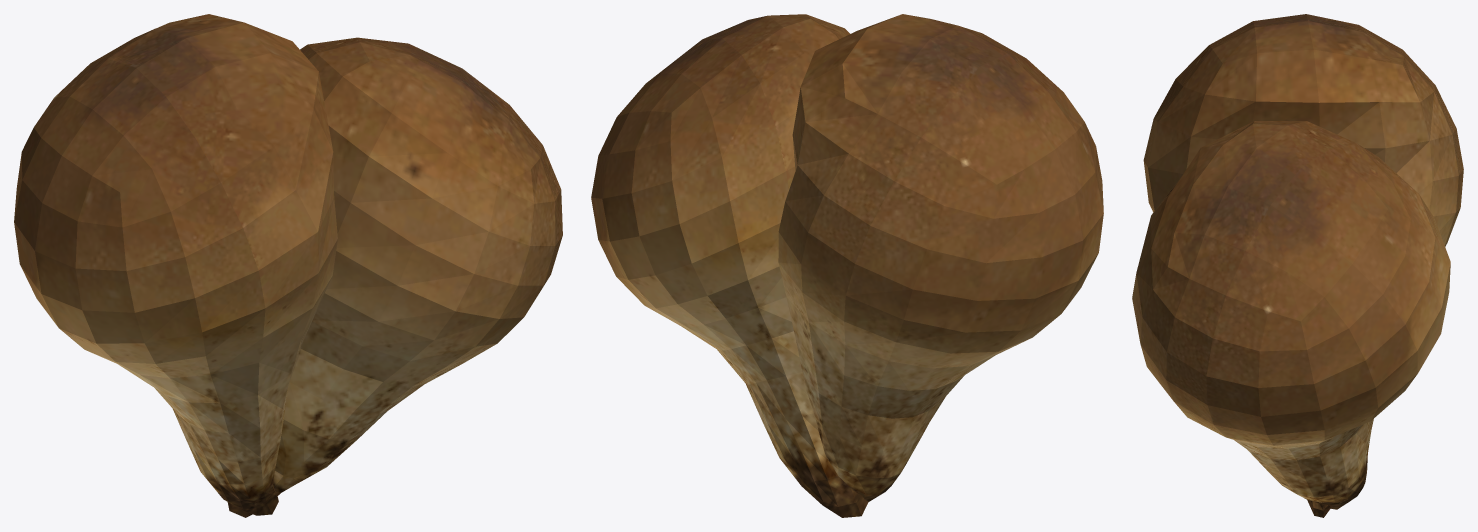
The model's file is P_Jituigu_02.obj.
3 views of the same model, side by side, from view 1: azimuth 30°, elevation 25°; view 2: azimuth 150°, elevation 25°; view 3: azimuth 270°, elevation 25° (orthographic). The views are drawn at different scales.
Bounding box in the file's own units: 0.2658 × 0.2593 × 0.1708.
1 material, 1 textured.
